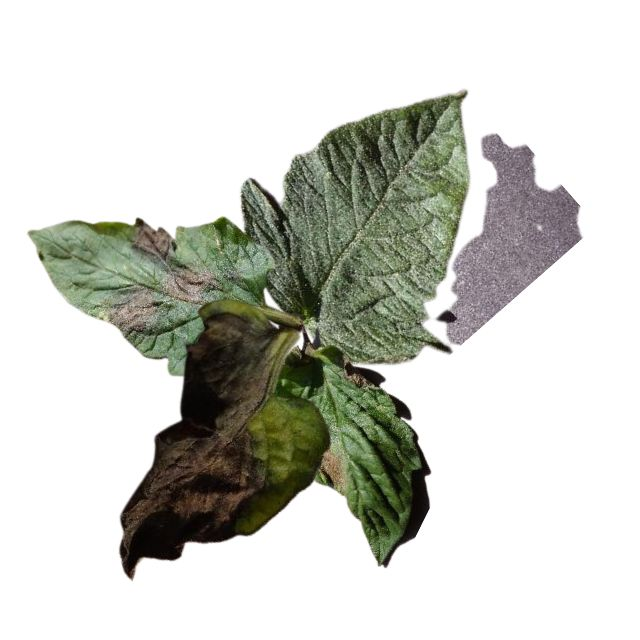Late_blight: (118, 299, 271, 579), (94, 282, 161, 336), (161, 263, 221, 305), (129, 216, 175, 264), (317, 446, 343, 491), (340, 360, 371, 389)
